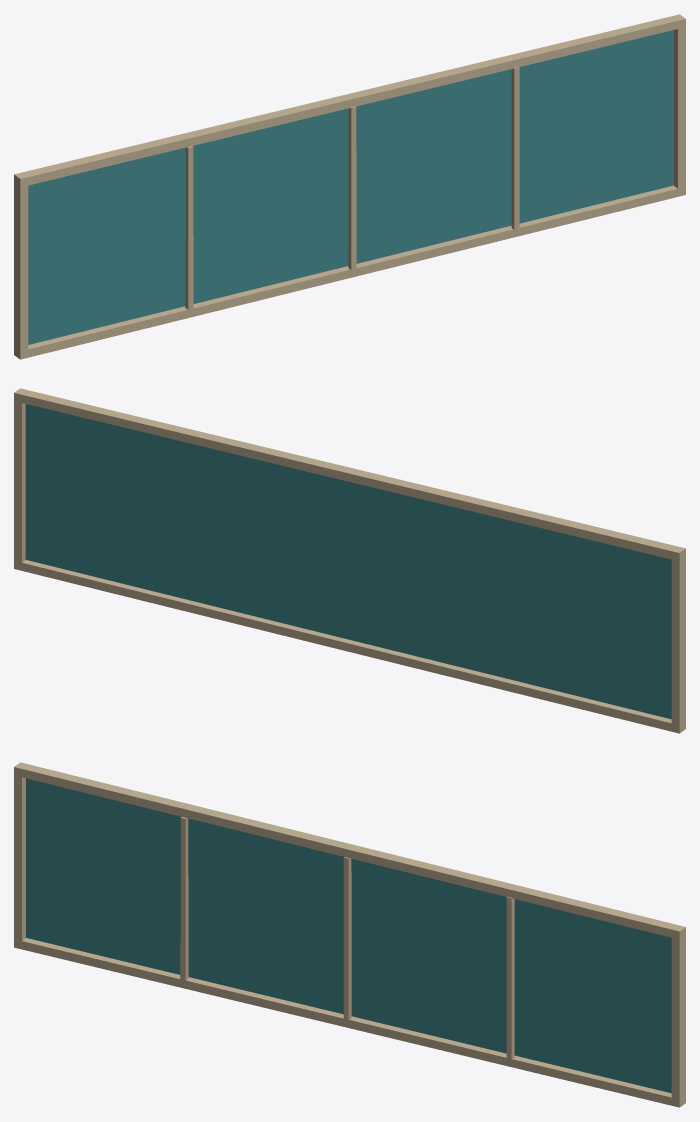
File: front_window.glb
3 views of the same model, one above another, from view 1: azimuth 30°, elevation 25°; view 2: azimuth 150°, elevation 25°; view 3: azimuth 330°, elevation 25° (orthographic).
Visible parts, largest first — view 1: WB002V2_GreenPane.001, WB002V2_WindowFrame.005; view 2: WB002V2_GreenPane.001, WB002V2_WindowFrame.005; view 3: WB002V2_GreenPane.001, WB002V2_WindowFrame.005.
Part boxes in pixels (bbox=[...]): WB002V2_GreenPane.001: bbox=[28, 30, 673, 344]; WB002V2_WindowFrame.005: bbox=[14, 14, 685, 359]; WB002V2_GreenPane.001: bbox=[25, 404, 671, 719]; WB002V2_WindowFrame.005: bbox=[14, 388, 685, 733]; WB002V2_GreenPane.001: bbox=[26, 778, 671, 1093]; WB002V2_WindowFrame.005: bbox=[14, 762, 685, 1107].
Size of the model in its own units: 10.8 by 2.8 by 0.2.
